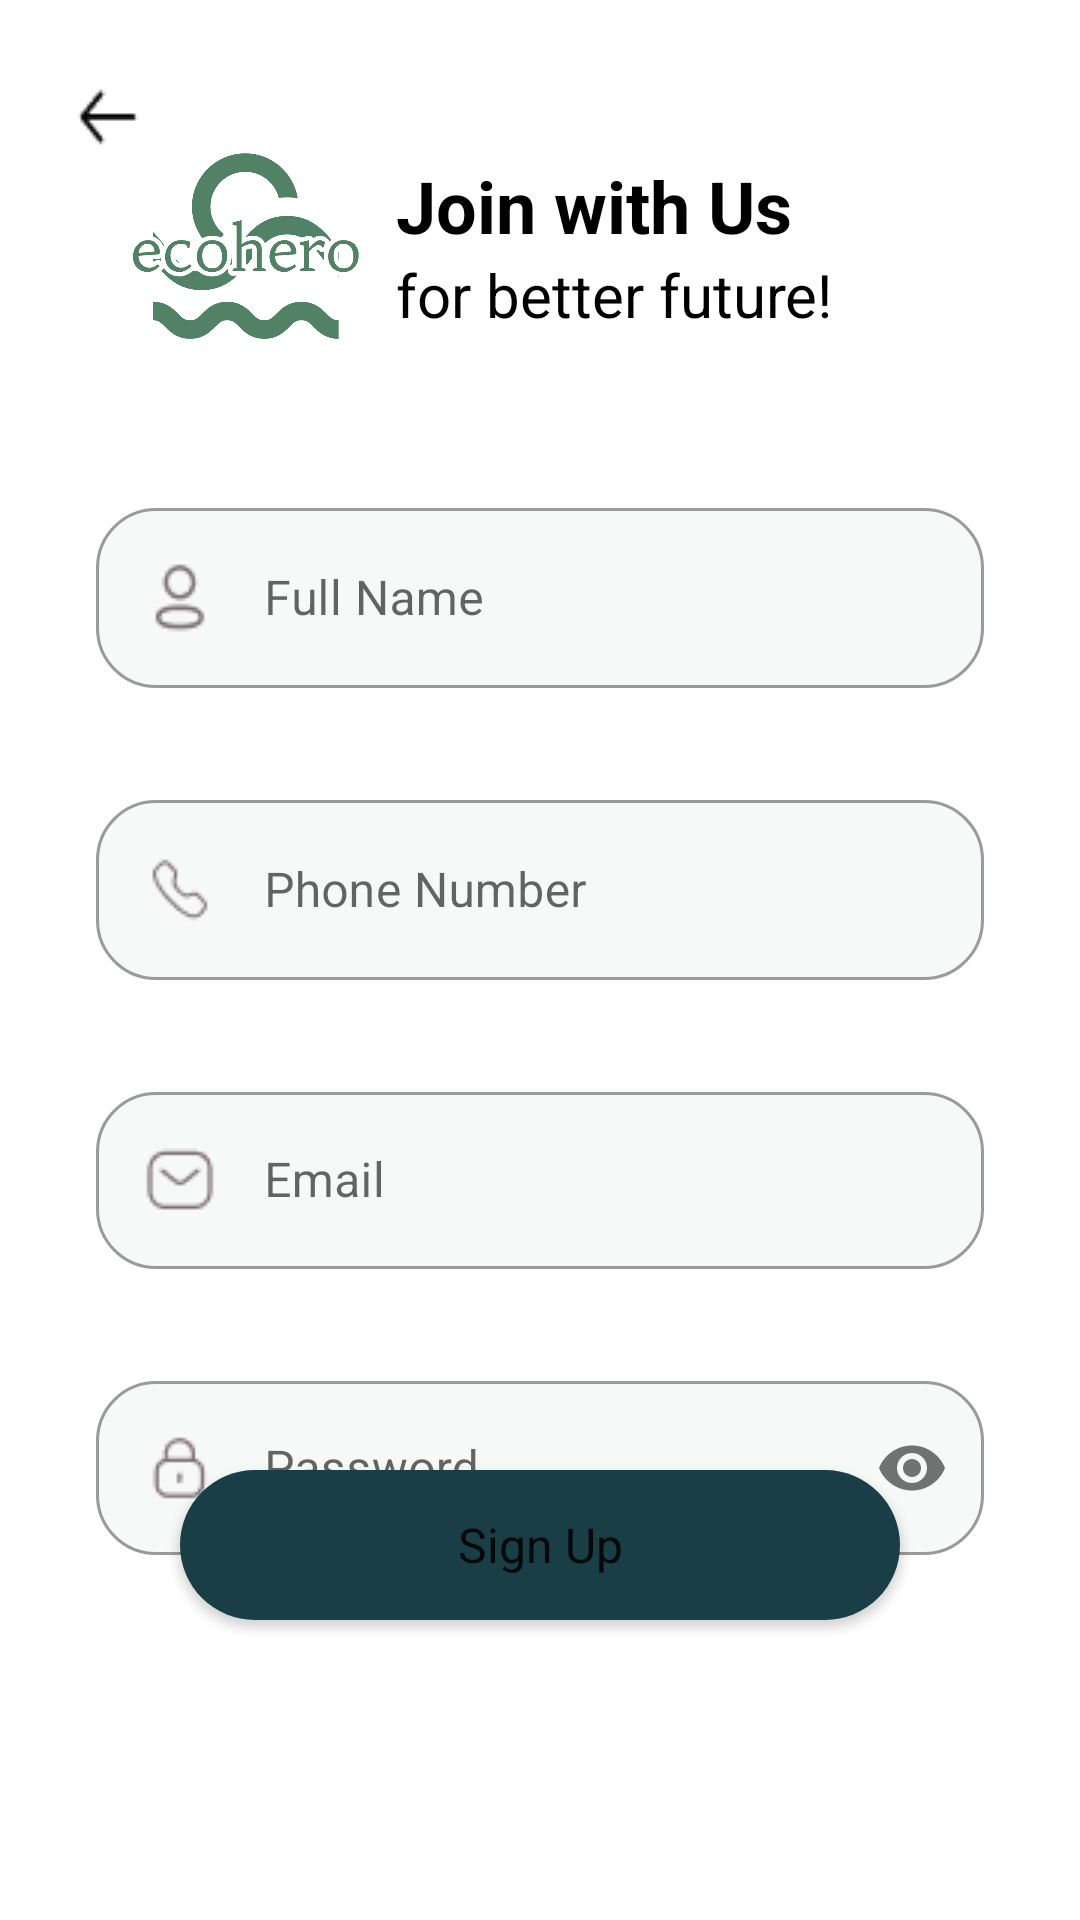

Icon bounding boxes for this 1080×1920 phone screenshot, format (x1, y1, x2, y2):
back: (79, 89, 137, 145)
